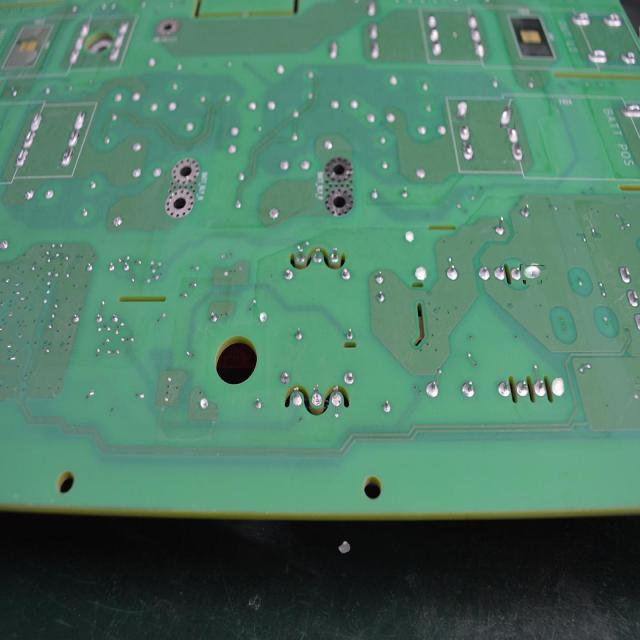slug: (523, 262, 545, 283), (549, 372, 566, 398), (500, 99, 514, 128), (453, 99, 467, 126)
